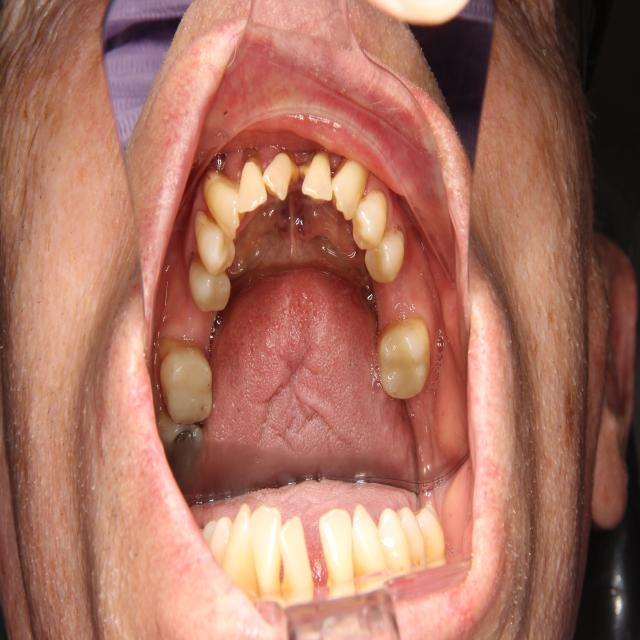tooth: (157, 331, 218, 430), (374, 313, 432, 412), (154, 404, 206, 493), (200, 160, 250, 242), (192, 203, 245, 277), (328, 145, 372, 227), (362, 223, 408, 289), (348, 185, 393, 252), (188, 249, 235, 313), (234, 147, 272, 218), (297, 141, 337, 207), (259, 142, 299, 203)
